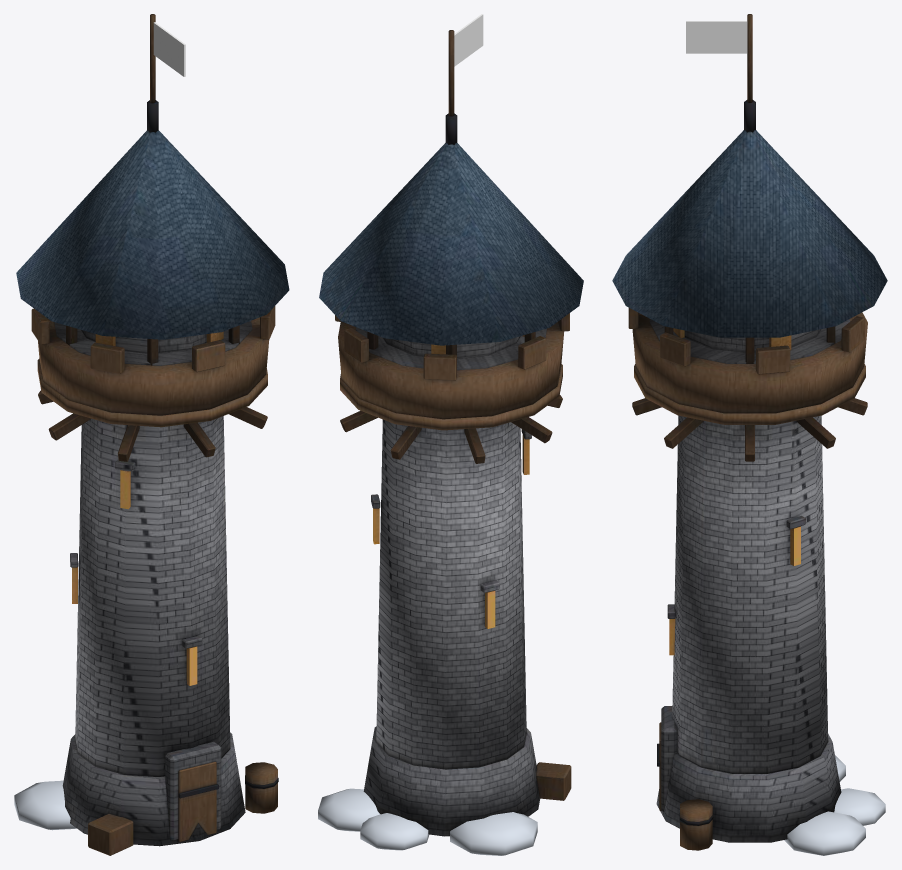
Rendered from wacht_tower.glb.
3 renders of one model, left to right at view 1: azimuth 30°, elevation 25°; view 2: azimuth 150°, elevation 25°; view 3: azimuth 270°, elevation 25°, orthographic. The views are drawn at different scales.
Parts seen in each view (by area): view 1: wacht_tower, Schnee, Fahne1; view 2: wacht_tower, Schnee, Fahne1; view 3: wacht_tower, Schnee, Fahne1.
Part boxes in pixels (x1,y1,x2,y2): wacht_tower: [16, 14, 289, 855]; Schnee: [14, 780, 76, 830]; Fahne1: [153, 22, 185, 76]; wacht_tower: [319, 30, 583, 836]; Schnee: [318, 788, 537, 855]; Fahne1: [454, 14, 483, 66]; wacht_tower: [612, 14, 887, 850]; Schnee: [784, 755, 885, 855]; Fahne1: [686, 21, 746, 53].
Bounding box in the file's own units: 2.73 × 9.03 × 2.8.
3 materials, 1 textured.
